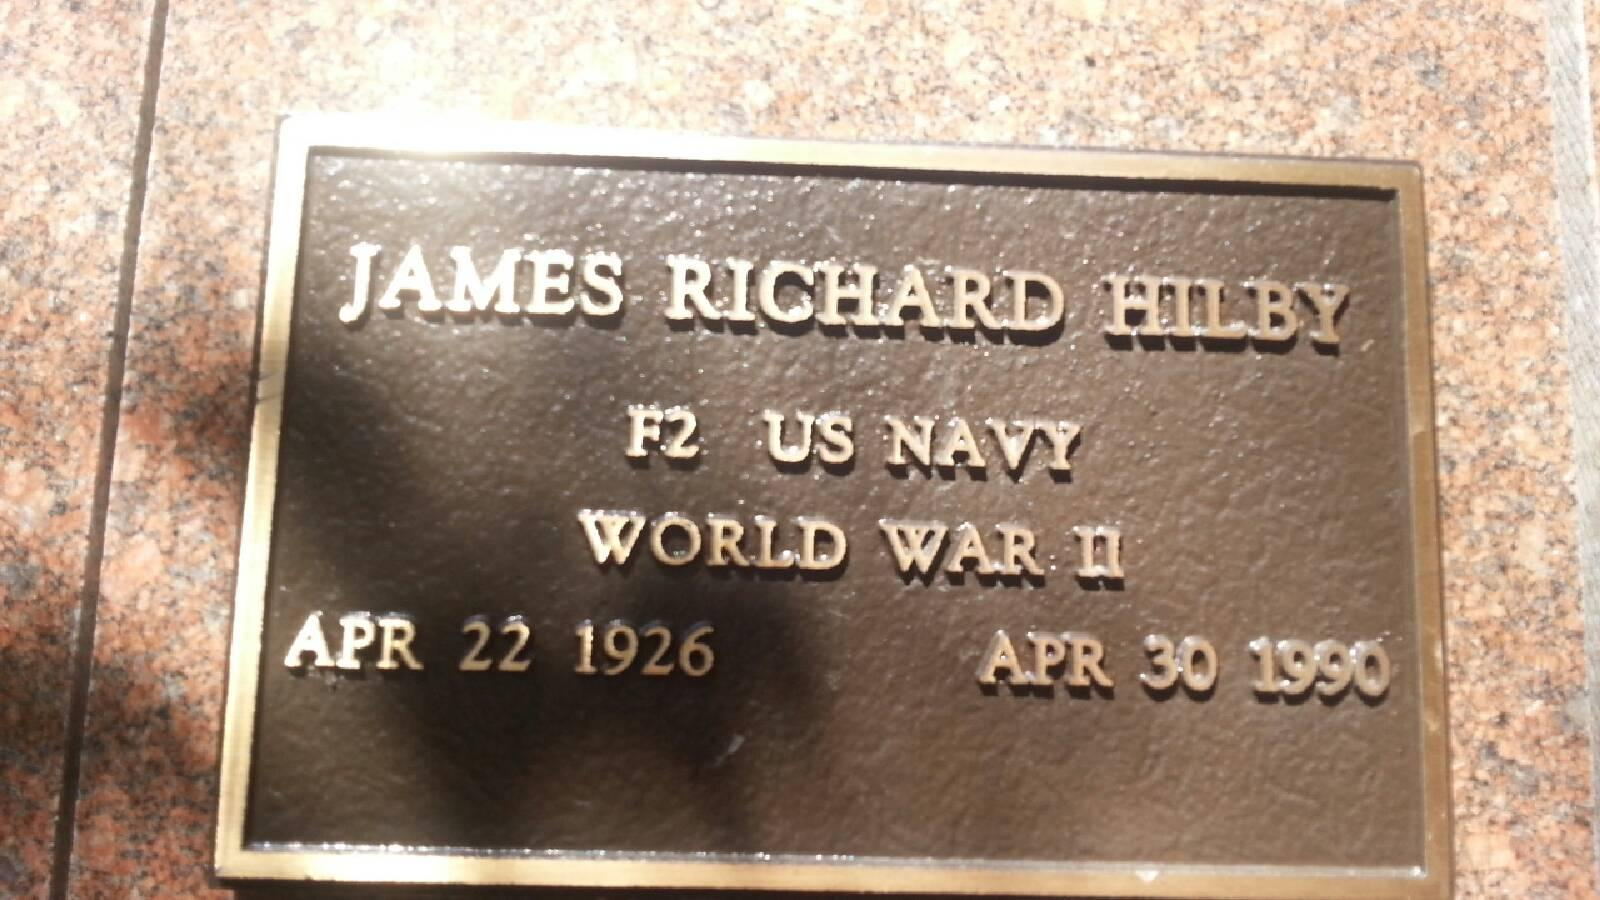plaque: (213, 97, 1458, 900)
